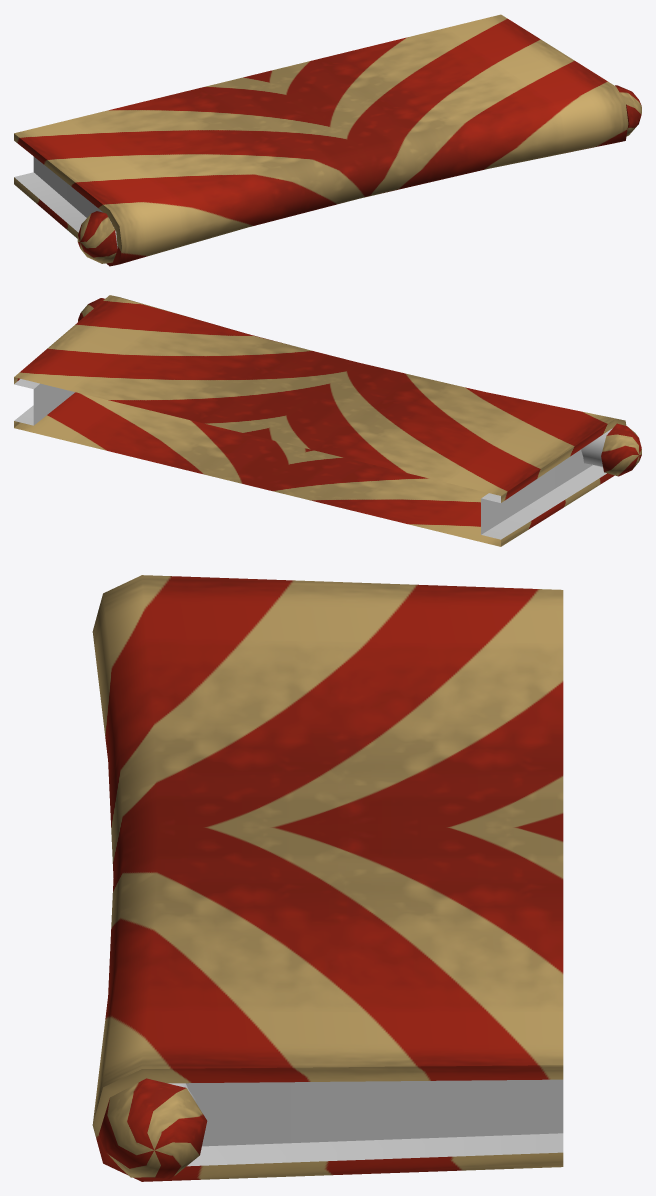
The model's file is MOD_Roller_5_A.FBX.
3 views of the same model, one above another, from view 1: azimuth 30°, elevation 25°; view 2: azimuth 150°, elevation 25°; view 3: azimuth 270°, elevation 25° (orthographic). The views are drawn at different scales.
Visible parts, largest first — view 1: MOD_Roller_5_A; view 2: MOD_Roller_5_A; view 3: MOD_Roller_5_A.
Part boxes in pixels (x1,y1,x2,y2): MOD_Roller_5_A: [14, 14, 641, 266]; MOD_Roller_5_A: [14, 295, 641, 546]; MOD_Roller_5_A: [92, 575, 563, 1181].
Bounding box in the file's own units: 5.74 × 0.5534 × 2.09.
